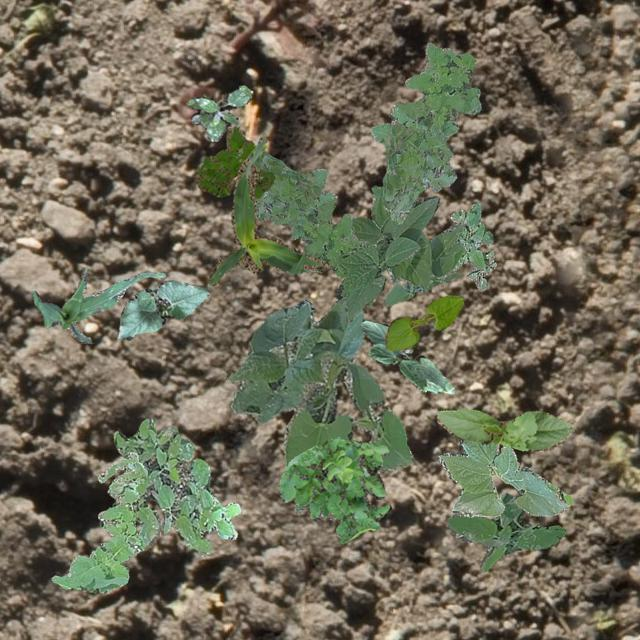crop: (228, 296, 412, 512), (208, 136, 328, 284), (351, 184, 464, 304), (334, 194, 438, 320), (438, 438, 572, 516), (30, 266, 164, 342), (359, 320, 454, 394), (436, 406, 574, 451), (116, 280, 208, 338), (383, 294, 462, 350)
weed: (370, 41, 480, 222), (98, 417, 240, 552), (252, 152, 368, 276), (50, 450, 146, 592), (278, 436, 390, 542), (444, 492, 564, 570), (196, 125, 274, 198), (450, 202, 496, 290), (186, 84, 252, 140)
